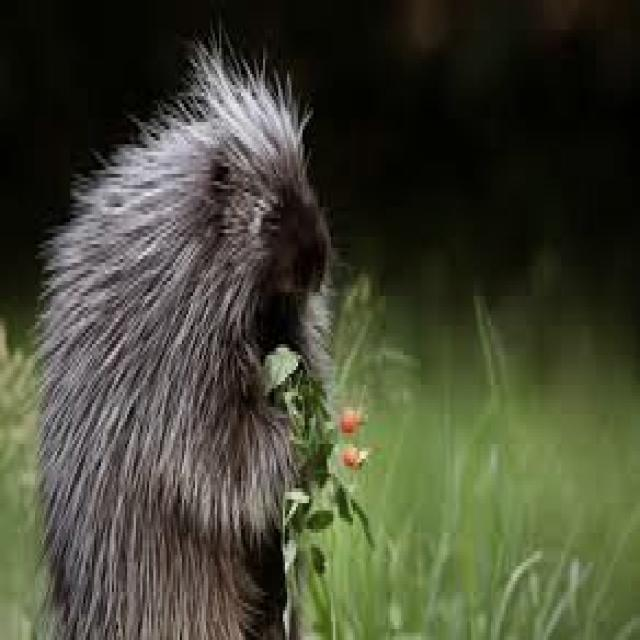porcupine: (39, 37, 331, 636)
